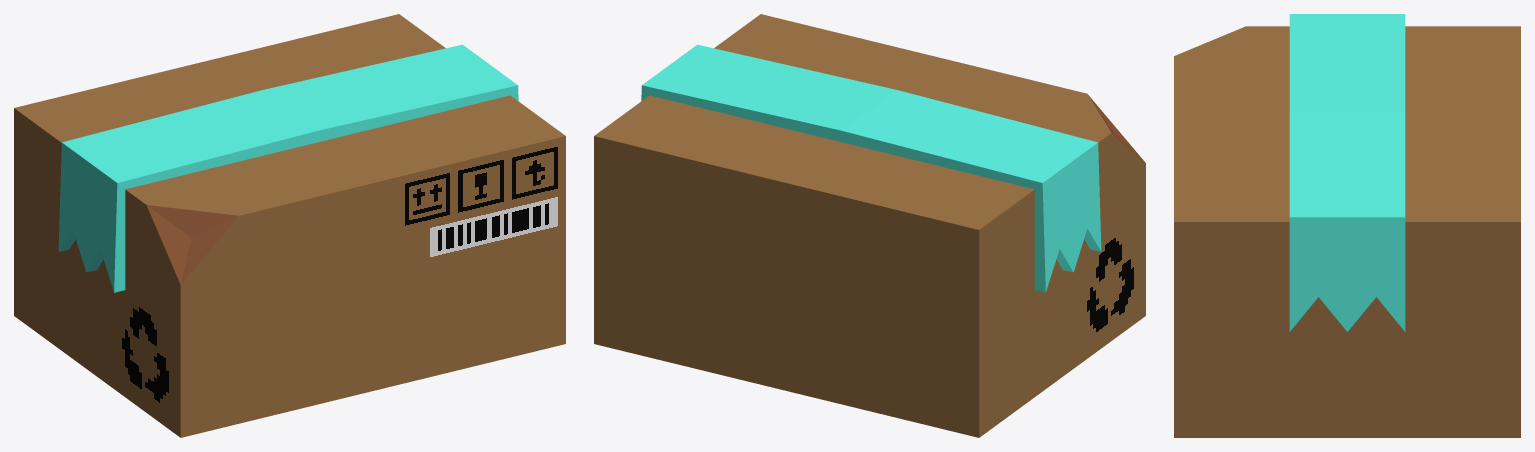
3 views of the same model, side by side, from view 1: azimuth 30°, elevation 25°; view 2: azimuth 150°, elevation 25°; view 3: azimuth 270°, elevation 25° (orthographic). The views are drawn at different scales.
Visible parts, largest first — view 1: Box_Morph, Box_flap1, Box_small_flap2; view 2: Box_Morph, Box_flap2, Box_small_flap2, Box_small_flap1; view 3: Box_Morph, Box_small_flap1.
Boxes of the visible parts, <box> form: Box_Morph: <box>14,14,565,431</box>; Box_flap1: <box>97,343,543,437</box>; Box_small_flap2: <box>14,310,276,437</box>; Box_Morph: <box>594,14,1145,431</box>; Box_flap2: <box>618,345,1006,437</box>; Box_small_flap2: <box>883,310,1145,437</box>; Box_small_flap1: <box>594,337,690,367</box>; Box_Morph: <box>1174,14,1520,431</box>; Box_small_flap1: <box>1174,431,1520,437</box>.
Bounding box in the file's own units: 0.6703 × 0.3452 × 0.4755.
1 material, 1 textured.
